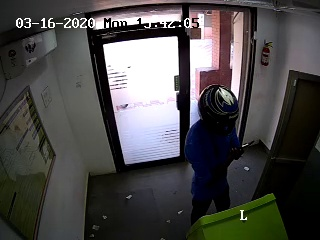helmet: (196, 83, 244, 133)
